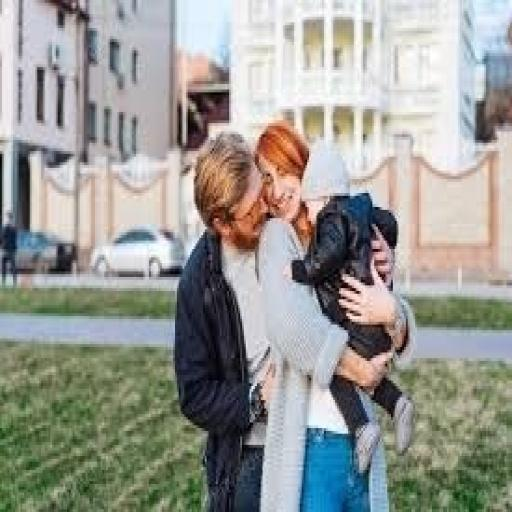hugging: (171, 118, 417, 509)
